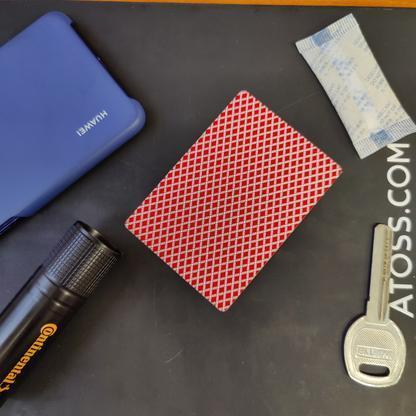card: (123, 83, 347, 331)
